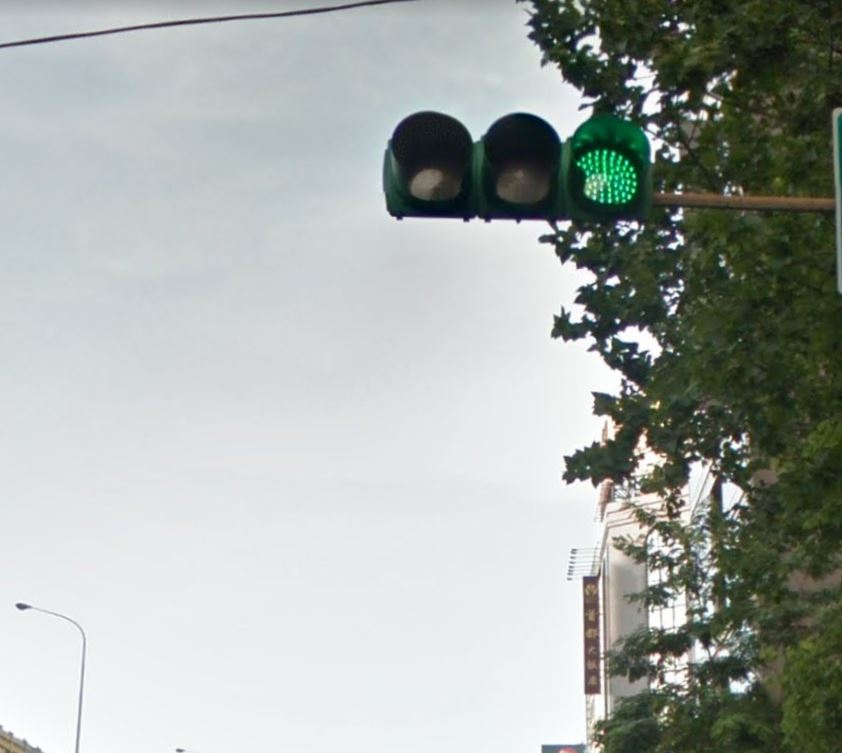Traffic_light_green: (379, 108, 657, 226)
